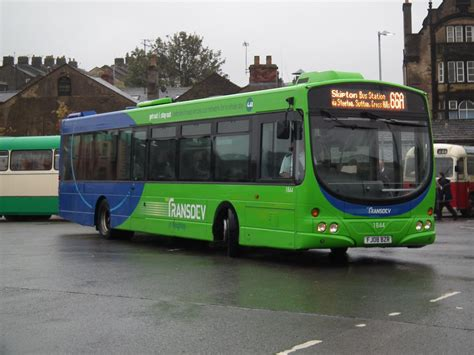bus: (60, 71, 433, 252)
